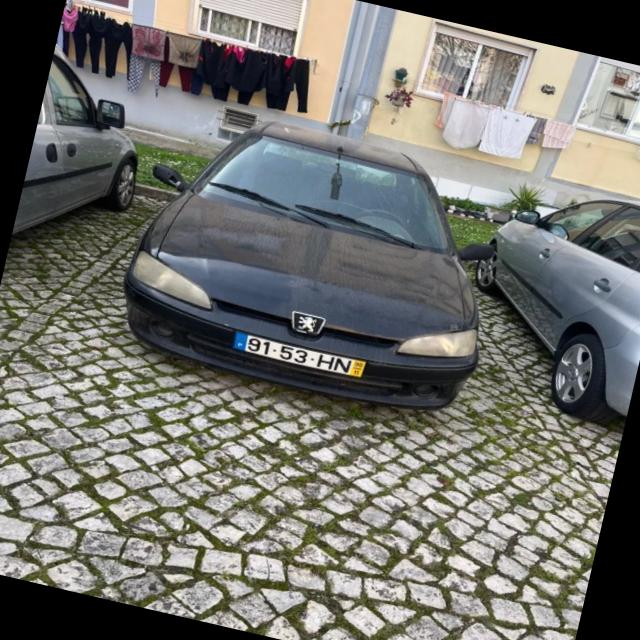portuguese-license-plates: (227, 328, 369, 379)
